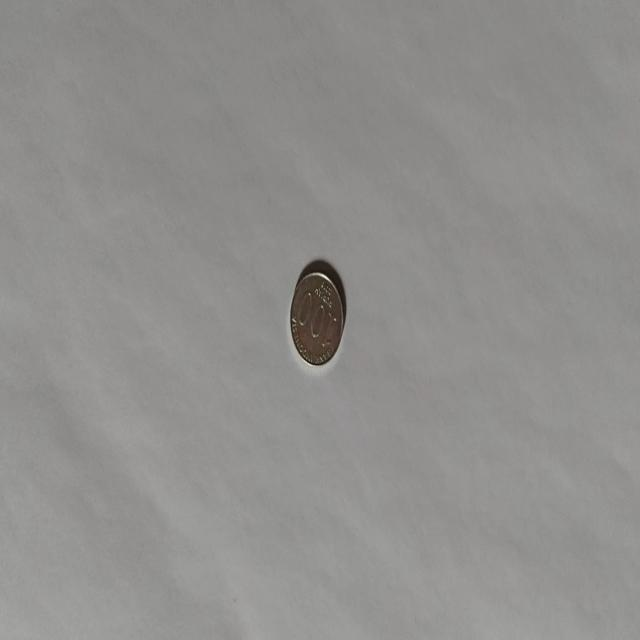seratus rupiah: (289, 269, 344, 367)
